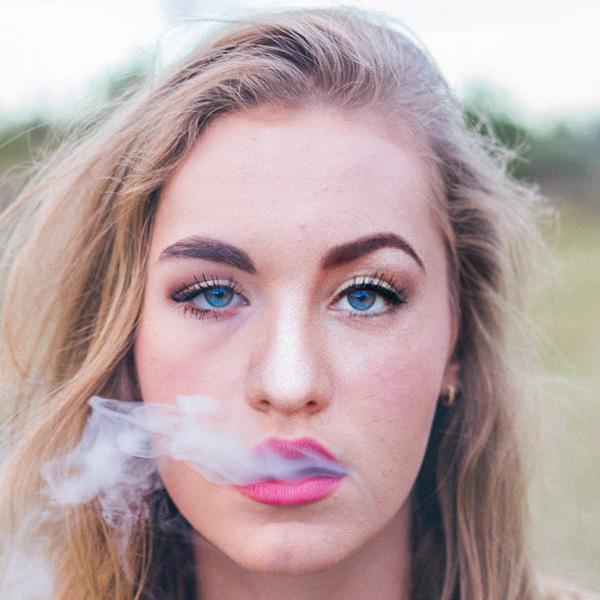Eyes: (161, 261, 261, 329), (322, 262, 413, 331)
